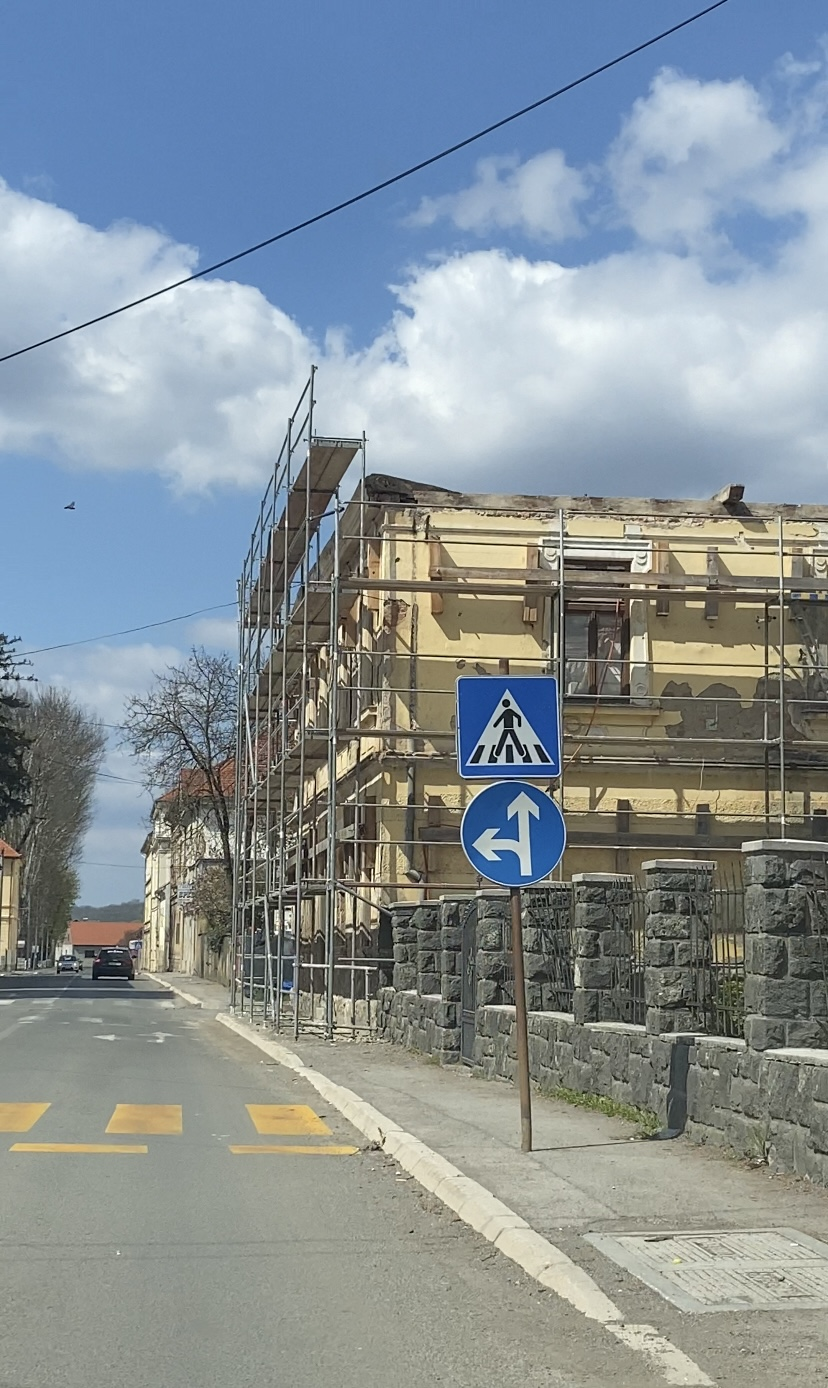Pješački prijelaz: (456, 676, 561, 778)
